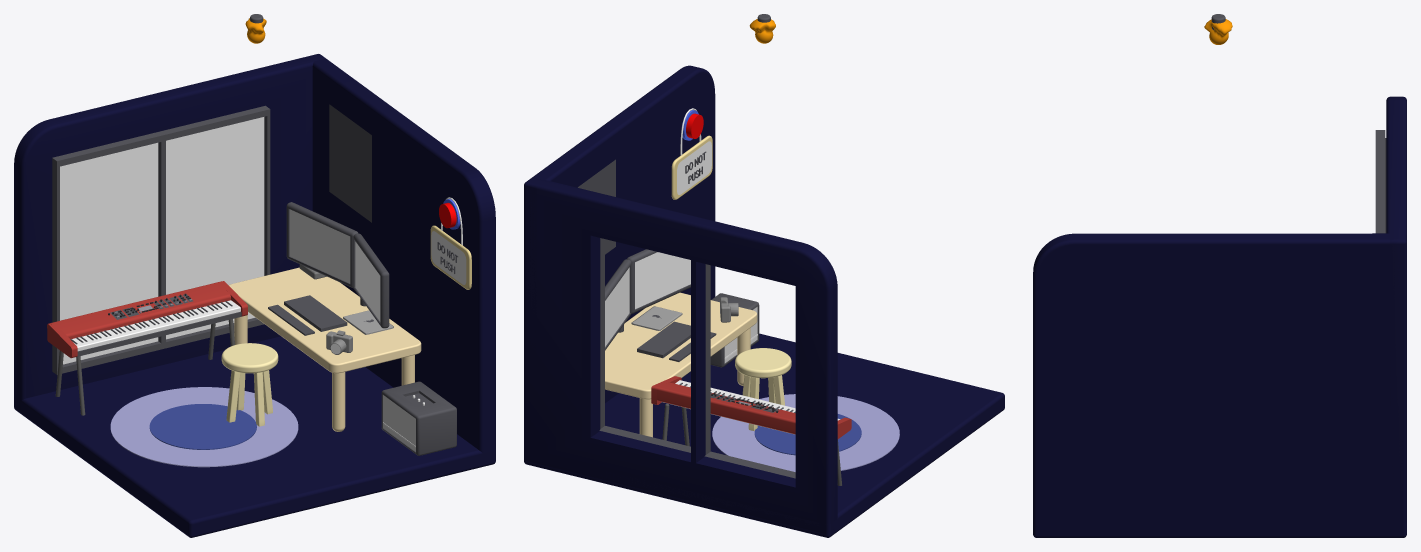
File: Room_Model.glb
3 views of the same model, side by side, from view 1: azimuth 30°, elevation 25°; view 2: azimuth 150°, elevation 25°; view 3: azimuth 270°, elevation 25° (orthographic). The views are drawn at different scales.
Parts seen in each view (by area): view 1: Wall Bottom, Wall Right, Rectangle 4 (×3), Wall Left, Plane (×2), Desk Top, Ellipse, Cube (×3), Rectangle (×3), Rectangle 3 (×2), Ellipse 2, Screen 1 (+7 smaller); view 2: Wall Left, Wall Bottom, Wall Right, Desk Top, Ellipse, Plane (×2), Rectangle 3, Screen 2, Cube (×3), Cylinder 2, Ellipse 2, Screen 1 (+6 smaller); view 3: Wall Right, Wall Left, Wall Bottom, Plane (×2), Sphere.
Boxes of the visible parts, <box> form: Wall Bottom: <box>14,336,495,537</box>; Wall Right: <box>307,54,495,453</box>; Rectangle 4 (×3): <box>60,117,347,364</box>; Wall Left: <box>14,54,325,409</box>; Plane (×2): <box>52,105,270,374</box>; Desk Top: <box>229,267,421,373</box>; Ellipse: <box>110,387,298,467</box>; Cube (×3): <box>286,202,456,455</box>; Rectangle (×3): <box>47,104,371,358</box>; Rectangle 3 (×2): <box>50,281,415,451</box>; Ellipse 2: <box>149,404,256,449</box>; Screen 1: <box>289,209,350,283</box>; Wall Left: <box>524,177,837,533</box>; Wall Bottom: <box>524,333,1004,537</box>; Wall Right: <box>524,65,715,461</box>; Desk Top: <box>605,292,757,399</box>; Ellipse: <box>712,394,899,471</box>; Plane (×2): <box>599,238,795,478</box>; Rectangle 3: <box>653,382,795,434</box>; Screen 2: <box>635,252,690,309</box>; Cube (×3): <box>605,249,759,367</box>; Cylinder 2: <box>735,348,791,378</box>; Ellipse 2: <box>754,414,861,455</box>; Screen 1: <box>605,267,629,346</box>; Wall Right: <box>1033,233,1406,533</box>; Wall Left: <box>1386,96,1406,532</box>; Wall Bottom: <box>1033,522,1406,537</box>; Plane (×2): <box>1375,130,1386,233</box>; Sphere: <box>1204,19,1232,44</box>.
Bounding box in the file's own units: 4 × 5.25 × 4.
